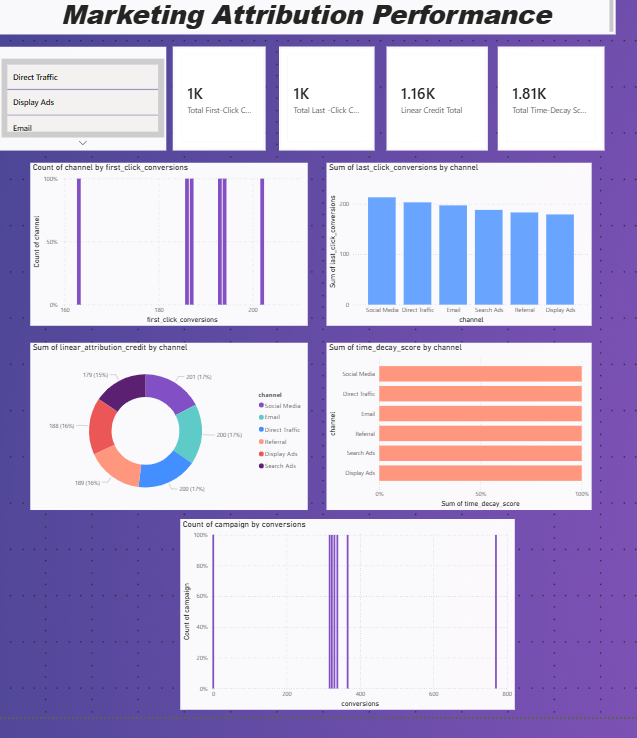

What the dashboard file says about the page in this screenshot:
{"tool":"powerbi","page":{"name":"Page 1","canvas":[1280,1500],"ordinal":0},"visuals":[{"type":"hundredPercentStackedColumnChart","fields":{"Category":["First click.first_click_conversions"],"Y":["CountNonNull(First click.channel)"]},"box":[64.3,351.4,575.7,338.6],"z":0},{"type":"cardVisual","fields":{"Data":["Sum(campaign performance.conversions)"],"Rows":["First click.channel"]},"box":[0,108.6,347.1,215.7],"z":1000},{"type":"clusteredColumnChart","fields":{"Category":["last click attribution.channel"],"Y":["Sum(last click attribution.last_click_conversions)"]},"box":[680,351.4,550,338.6],"z":1002},{"type":"donutChart","fields":{"Category":["linear attribution.channel"],"Y":["Sum(linear attribution.linear_attribution_credit)"]},"box":[64.3,722.9,575.7,347.1],"z":1003},{"type":"hundredPercentStackedBarChart","fields":{"Category":["time decay attribution.channel"],"Y":["Sum(time decay attribution.time_decay_score)"]},"box":[680,722.9,550,347.1],"z":1004},{"type":"hundredPercentStackedColumnChart","fields":{"Y":["CountNonNull(campaign performance.campaign)"],"Category":["campaign performance.conversions"]},"box":[375.7,1088.6,694.3,395.7],"z":1005},{"type":"cardVisual","fields":{"Data":["Sum(time decay attribution.time_decay_score)"]},"box":[1034.3,108.6,221.4,215.7],"z":1008},{"type":"cardVisual","fields":{"Data":["Sum(linear attribution.linear_attribution_credit)"]},"box":[804.3,108.6,210,215.7],"z":1009},{"type":"cardVisual","fields":{"Data":["Sum(last click attribution.last_click_conversions)"]},"box":[580,108.6,198.6,215.7],"z":1010},{"type":"cardVisual","fields":{"Data":["Sum(First click.first_click_conversions)"]},"box":[361.4,108.6,192.9,215.7],"z":1011},{"type":"textbox","box":[0,0,1280,84.3],"z":1012}]}

Visuals, with their boxes in screenshot pixels (x1, y1, x2, y2), scaled from the page's 1280x1500 canvas onto the 637x738 screenshot:
hundredPercentStackedColumnChart - First click.first_click_conversions x CountNonNull(First click.channel): [x1=32, y1=173, x2=318, y2=339]
cardVisual - Sum(campaign performance.conversions) x First click.channel: [x1=0, y1=53, x2=173, y2=160]
clusteredColumnChart - last click attribution.channel x Sum(last click attribution.last_click_conversions): [x1=338, y1=173, x2=612, y2=339]
donutChart - linear attribution.channel x Sum(linear attribution.linear_attribution_credit): [x1=32, y1=356, x2=318, y2=526]
hundredPercentStackedBarChart - time decay attribution.channel x Sum(time decay attribution.time_decay_score): [x1=338, y1=356, x2=612, y2=526]
hundredPercentStackedColumnChart - CountNonNull(campaign performance.campaign) x campaign performance.conversions: [x1=187, y1=536, x2=532, y2=730]
cardVisual - Sum(time decay attribution.time_decay_score): [x1=515, y1=53, x2=625, y2=160]
cardVisual - Sum(linear attribution.linear_attribution_credit): [x1=400, y1=53, x2=505, y2=160]
cardVisual - Sum(last click attribution.last_click_conversions): [x1=289, y1=53, x2=387, y2=160]
cardVisual - Sum(First click.first_click_conversions): [x1=180, y1=53, x2=276, y2=160]
textbox: [x1=0, y1=0, x2=636, y2=41]
